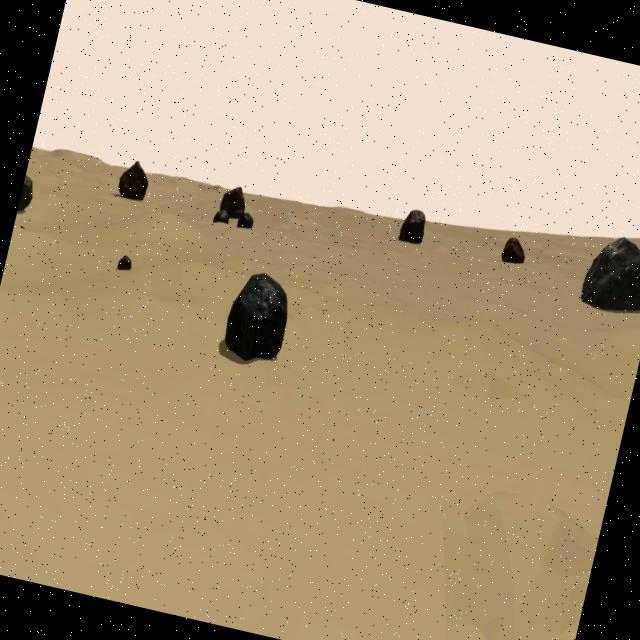rock: (218, 265, 296, 369), (578, 229, 640, 317), (114, 157, 152, 202), (218, 182, 249, 221), (398, 207, 428, 246), (499, 235, 528, 267), (16, 172, 38, 214), (210, 206, 230, 226), (115, 254, 134, 272), (237, 210, 254, 230), (19, 224, 25, 228)
